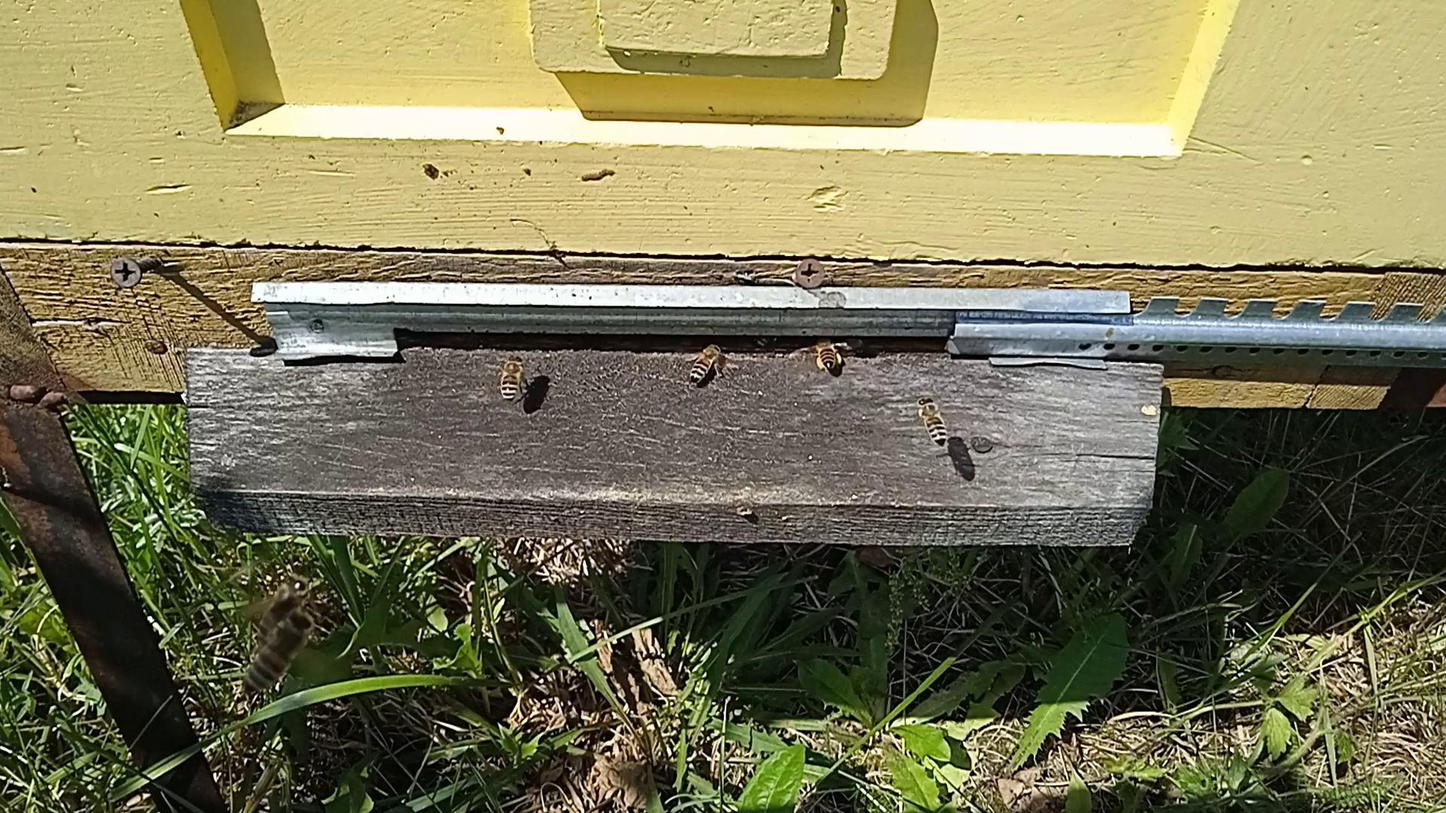worker-bee: (244, 610, 313, 692), (252, 590, 307, 651), (915, 394, 949, 445), (689, 342, 727, 385), (498, 353, 528, 402), (809, 337, 847, 374)
